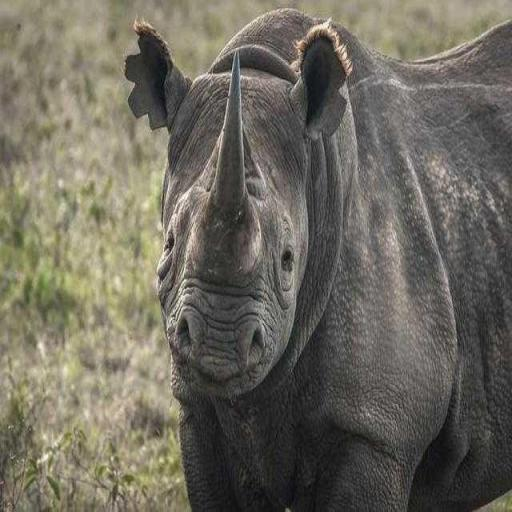Rhino: (123, 7, 511, 511)
